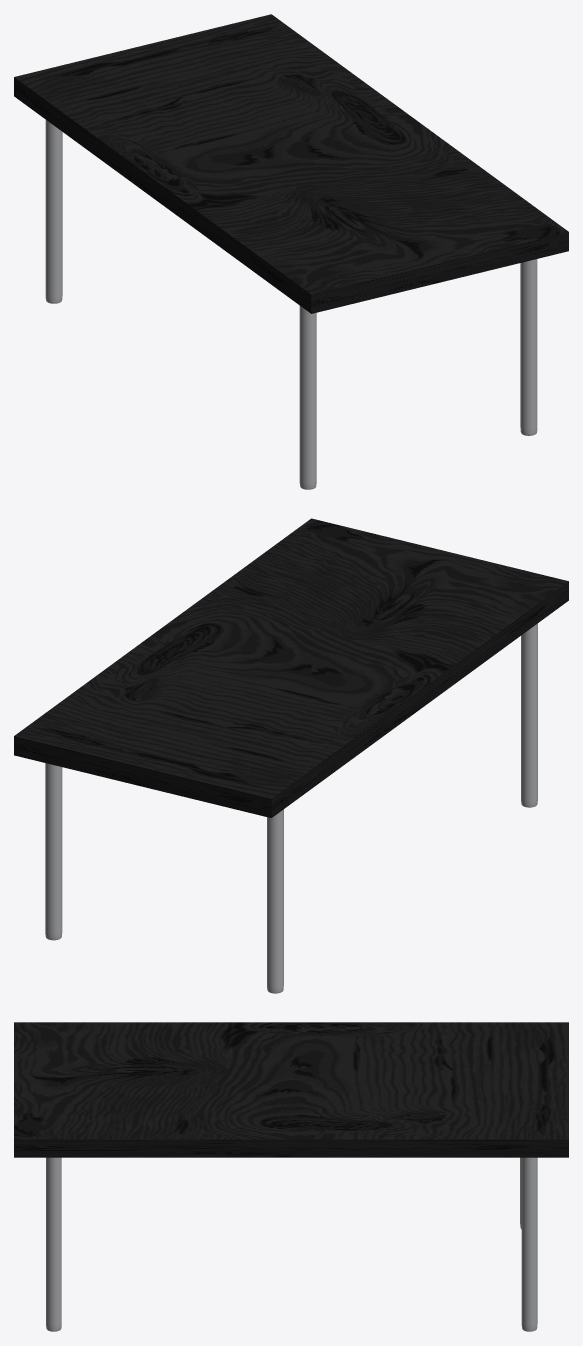
File: MeetingTable-Black.glb
3 renders of one model, top to bottom at view 1: azimuth 30°, elevation 25°; view 2: azimuth 150°, elevation 25°; view 3: azimuth 270°, elevation 25°, orthographic. The views are drawn at different scales.
Visible parts, largest first — view 1: Box, Cylinder 2 - baked, Cylinder - baked, Cylinder 3 - baked; view 2: Box, Cylinder 1 - baked, Cylinder - baked, Cylinder 2 - baked; view 3: Box, Cylinder 1 - baked, Cylinder 3 - baked.
Part boxes in pixels (left/top/right/bottom): Box: left=14, top=14, right=568, bottom=313; Cylinder 2 - baked: left=299, top=306, right=316, bottom=489; Cylinder - baked: left=45, top=120, right=62, bottom=303; Cylinder 3 - baked: left=520, top=259, right=537, bottom=435; Box: left=14, top=518, right=568, bottom=817; Cylinder 1 - baked: left=45, top=763, right=62, bottom=940; Cylinder - baked: left=267, top=809, right=283, bottom=993; Cylinder 2 - baked: left=521, top=623, right=537, bottom=807; Box: left=14, top=1022, right=568, bottom=1157; Cylinder 1 - baked: left=521, top=1157, right=537, bottom=1331; Cylinder 3 - baked: left=46, top=1157, right=61, bottom=1331.
Bounding box in the file's own units: 0.35 × 0.275 × 0.7.
5 materials, 1 textured.
